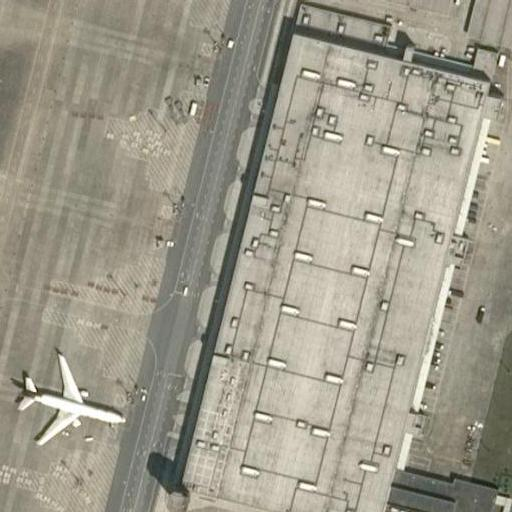Aircraft: (10, 347, 129, 452)
